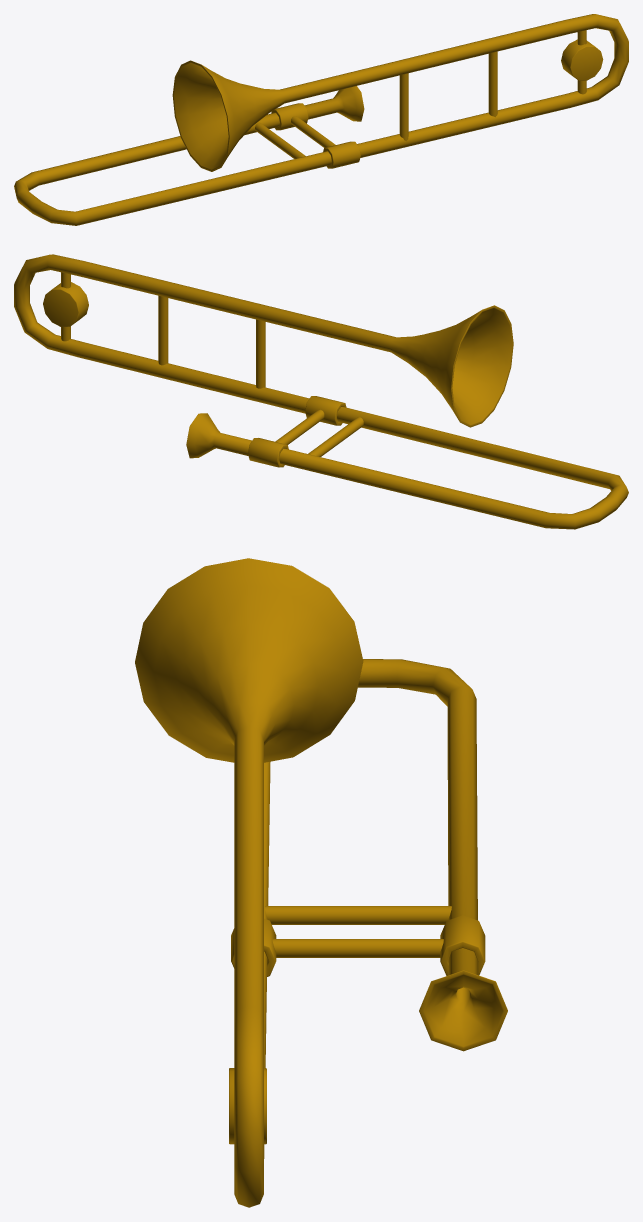
The model's file is Trombone.fbx.
The picture shows the model from 3 angles, top to bottom: view 1: azimuth 30°, elevation 25°; view 2: azimuth 150°, elevation 25°; view 3: azimuth 270°, elevation 25°; orthographic projection. The views are drawn at different scales.
Visible parts, largest first — view 1: Cylinder.003; view 2: Cylinder.003; view 3: Cylinder.003.
Part boxes in pixels (x1=…): Cylinder.003: x1=14, y1=14, x2=628, y2=225; Cylinder.003: x1=14, y1=254, x2=628, y2=529; Cylinder.003: x1=135, y1=558, x2=507, y2=1207.
Size of the model in its own units: 3.94 by 0.959 by 1.11.
